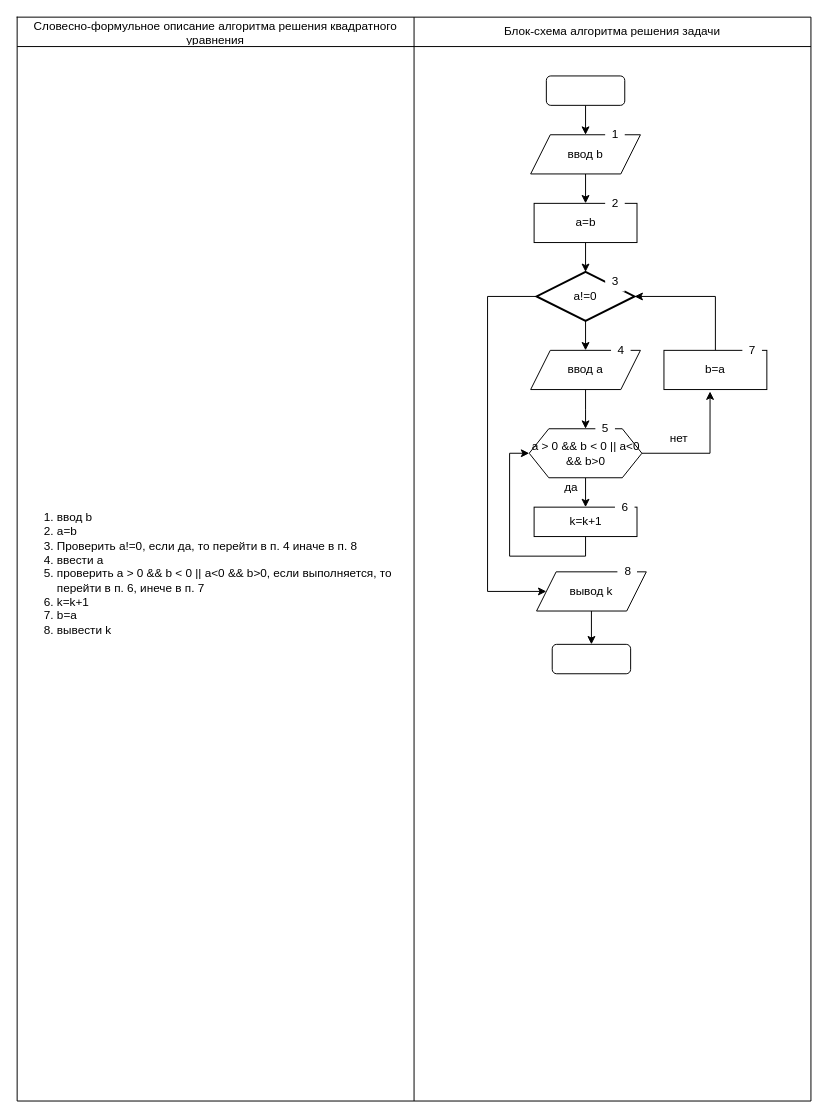
Image size: 828x1118. Some labels were removed from this diagram. The centre of each missing label's shape, as x and y in pixels:
"конец" belongs at point 591,658.
"начало" belongs at point 585,90.
